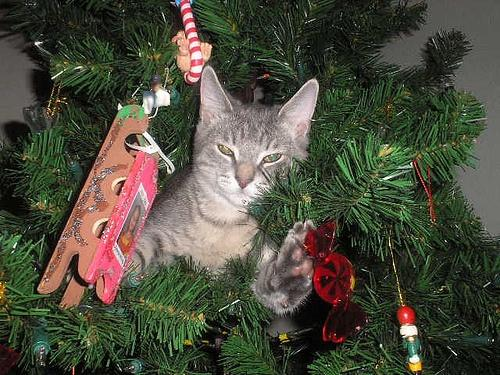tampered: (144, 75, 170, 114)
